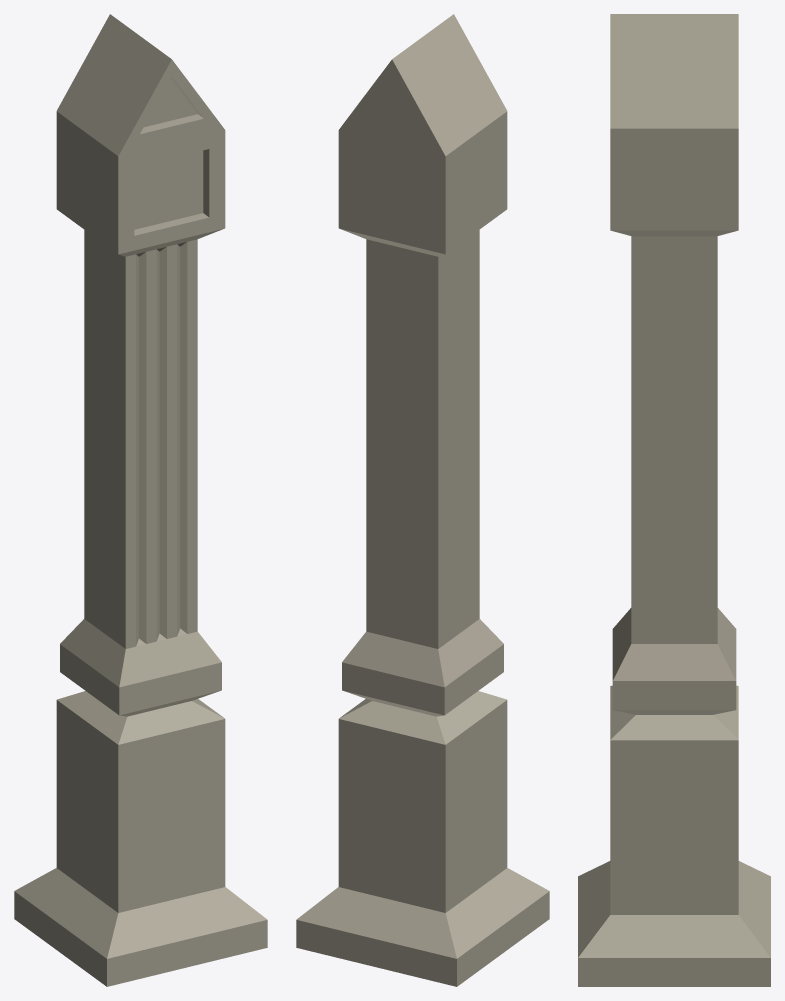
The model's file is victorian_column_2.fbx.
The picture shows the model from 3 angles, left to right: view 1: azimuth 30°, elevation 25°; view 2: azimuth 150°, elevation 25°; view 3: azimuth 270°, elevation 25°; orthographic projection. The views are drawn at different scales.
Visible parts, largest first — view 1: Cube.220; view 2: Cube.220; view 3: Cube.220.
Part boxes in pixels (bbox=[...]): Cube.220: bbox=[14, 14, 267, 986]; Cube.220: bbox=[296, 14, 549, 986]; Cube.220: bbox=[578, 14, 770, 986].
Bounding box in the file's own units: 60 × 320 × 60.
